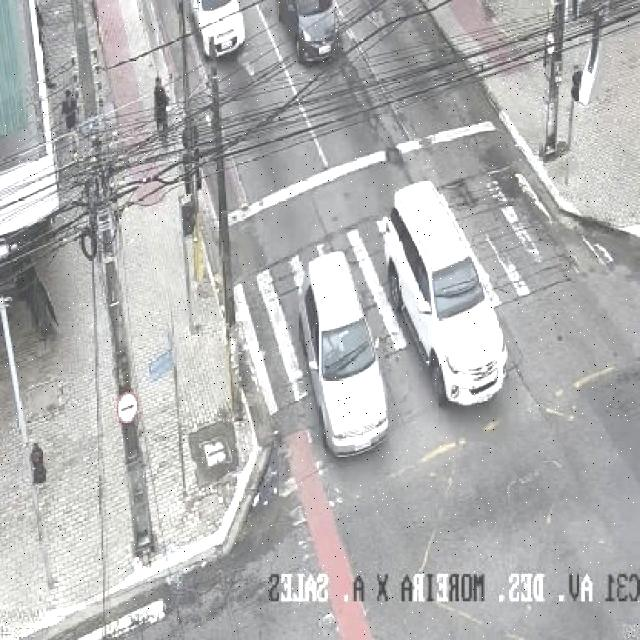Car: (382, 180, 509, 406), (298, 250, 390, 460), (277, 0, 343, 63), (188, 0, 246, 55)
